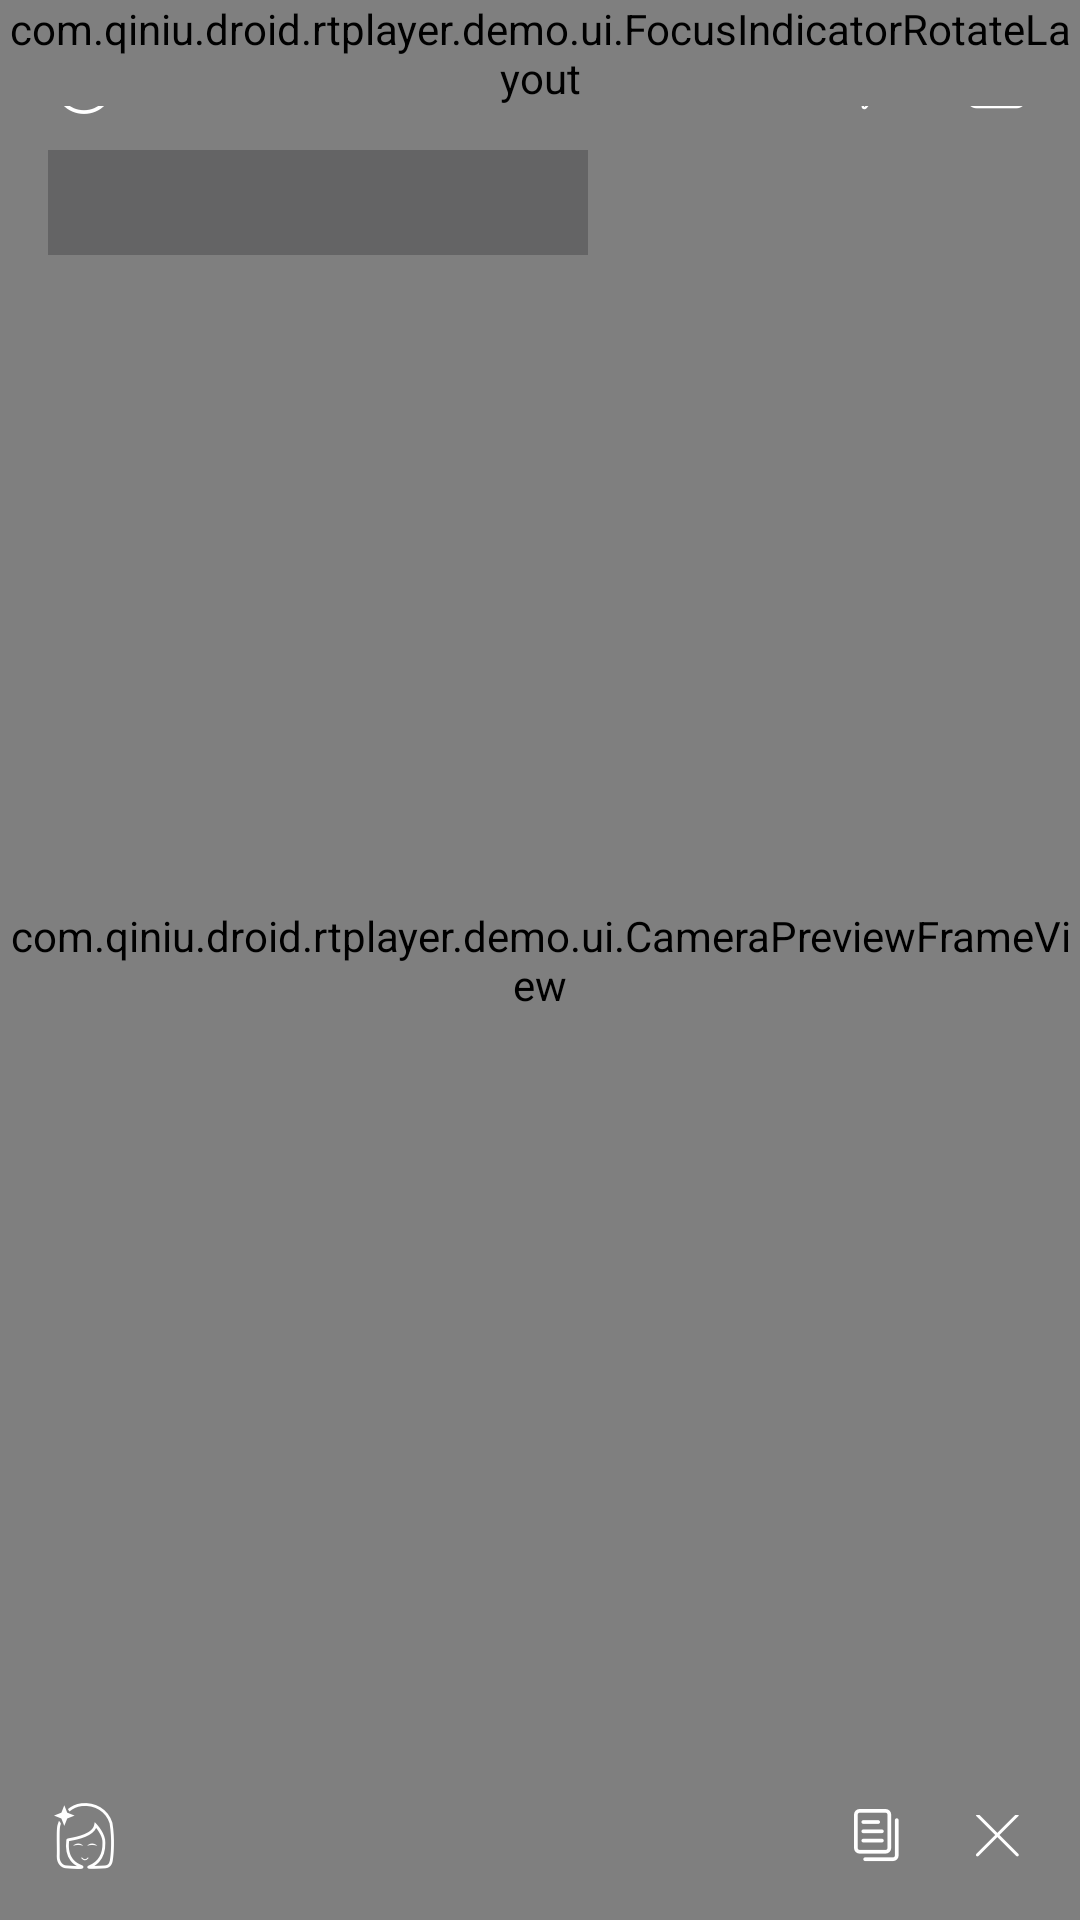

Point at icon controls on the screen. Image size 1080*1920, points as (x=x, y=y).
close: (x=997, y=1836)
face beauty: (x=84, y=1836)
